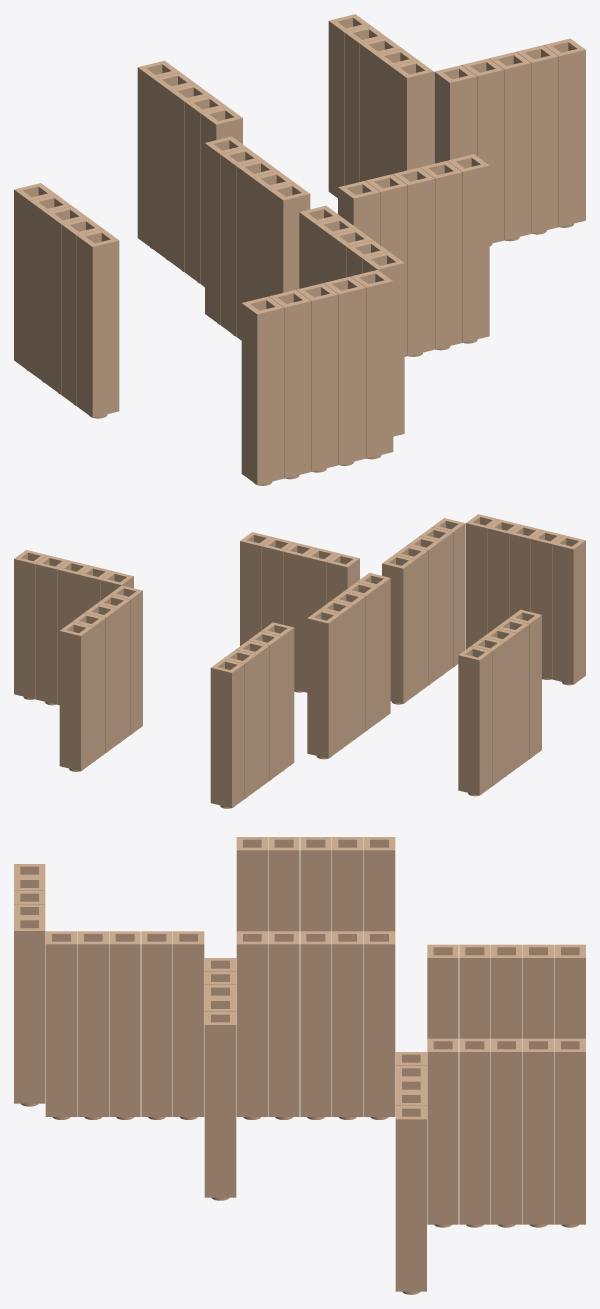
The model's file is brown.glb.
3 views of the same model, one above another, from view 1: azimuth 30°, elevation 25°; view 2: azimuth 150°, elevation 25°; view 3: azimuth 270°, elevation 25° (orthographic). The views are drawn at different scales.
Visible parts, largest first — view 1: Part-2453a_dot_dat (×40); view 2: Part-2453a_dot_dat (×40); view 3: Part-2453a_dot_dat (×28).
Boxes of the visible parts, x1,y1,x2,y2 form: Part-2453a_dot_dat (×40): (14, 14, 585, 485); Part-2453a_dot_dat (×40): (14, 514, 585, 808); Part-2453a_dot_dat (×28): (14, 837, 585, 1294).
Bounding box in the file's own units: 16.79 × 4.95 × 14.39.
